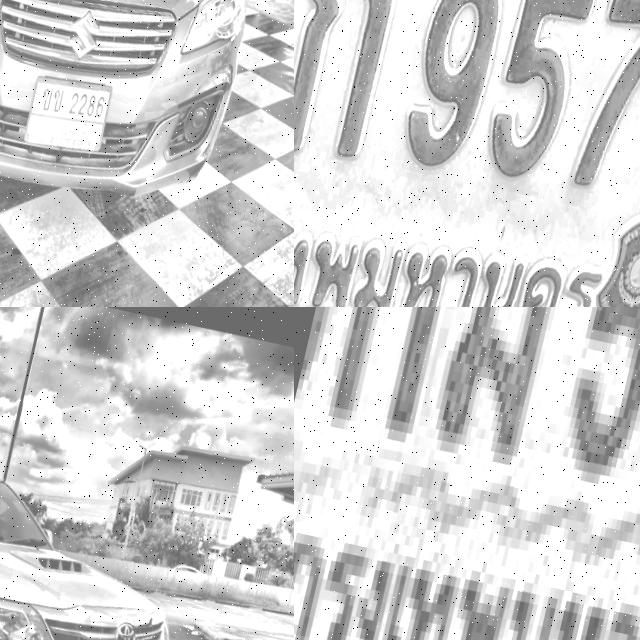license-plate: (294, 307, 640, 640), (294, 0, 640, 307), (19, 71, 113, 158)
